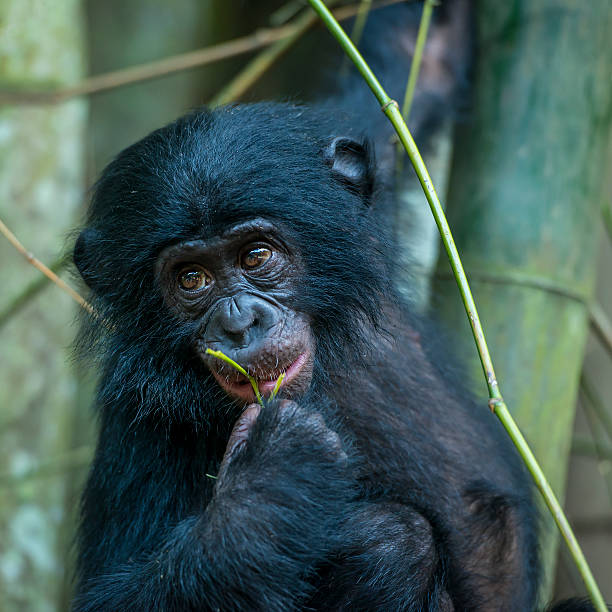chimpanzee: (41, 93, 421, 419)
